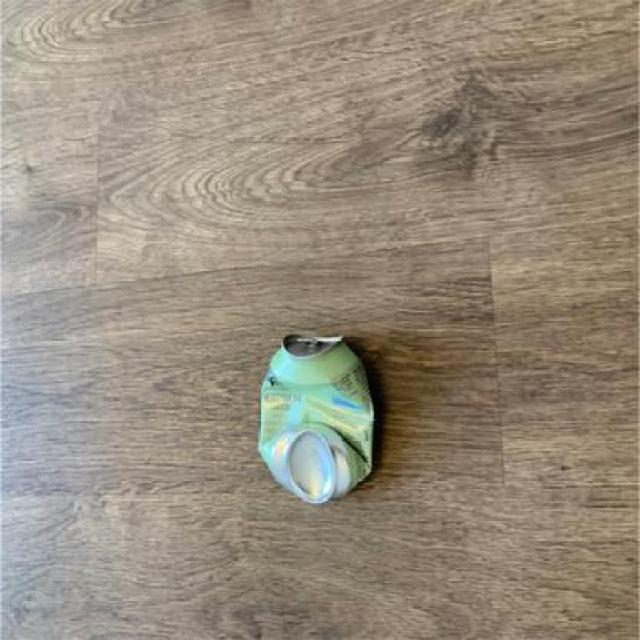Metal: (257, 330, 377, 504)
